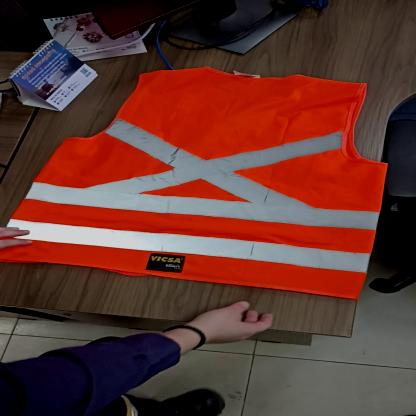colete: (2, 64, 397, 302)
